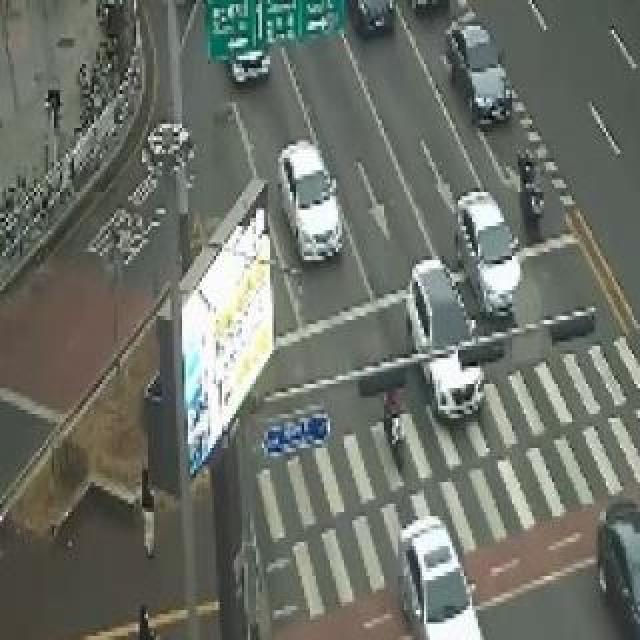motorbike: (501, 150, 557, 228)
